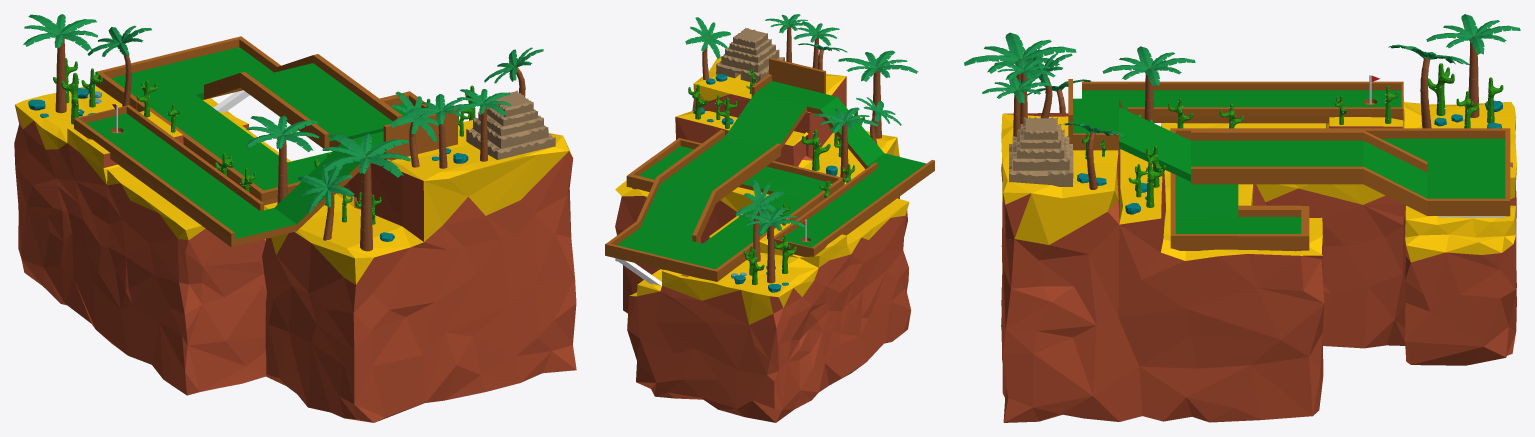
Rendered from IslandDesert_Mapa.glb.
3 renders of one model, left to right at view 1: azimuth 30°, elevation 25°; view 2: azimuth 150°, elevation 25°; view 3: azimuth 270°, elevation 25°, orthographic. The views are drawn at different scales.
Visible parts, largest first — view 1: Terreno_Isla, Circuito_Cesped, Circuito_Paredes, Palmera_Hojas_7, Palmera_Hojas_9, Palmera_Hojas_6, Palmera_Hojas_8, Piramide_1, Palmera_Tronco_7, Palmera_Hojas_1, Piramide_2, Palmera_Hojas_5 (+7 smaller); view 2: Terreno_Isla, Circuito_Cesped, Circuito_Paredes, Palmera_Hojas_7, Palmera_Hojas_5, Palmera_Hojas_4, Palmera_Hojas_9, Palmera_Hojas_6, Piramide_2, Piramide_1, Piramide_5, Palmera_Hojas_3 (+10 smaller); view 3: Terreno_Isla, Circuito_Cesped, Circuito_Paredes, Palmera_Hojas_7, Palmera_Hojas_9, Palmera_Hojas_6, Piramide_1, Piramide_2, Piramide_5, Palmera_Hojas_2, Piramide_3, Palmera_Tronco_9 (+5 smaller).
Boxes of the visible parts, x1,y1,x2,y2 form: Terreno_Isla: (14,84,576,422); Circuito_Cesped: (86,47,414,239); Circuito_Paredes: (74,36,457,247); Palmera_Hojas_7: (321,133,410,177); Palmera_Hojas_9: (23,14,97,51); Palmera_Hojas_6: (245,115,319,151); Palmera_Hojas_8: (298,165,354,212); Piramide_1: (466,128,555,159); Palmera_Tronco_7: (360,156,372,251); Palmera_Hojas_1: (389,91,438,141); Piramide_2: (473,118,548,148); Palmera_Hojas_5: (87,25,151,56); Terreno_Isla: (615,56,911,422); Circuito_Cesped: (617,81,926,269); Circuito_Paredes: (605,57,934,281); Palmera_Hojas_7: (838,50,918,81); Palmera_Hojas_5: (735,180,783,223); Palmera_Hojas_4: (685,17,730,58); Palmera_Hojas_9: (739,208,805,233); Palmera_Hojas_6: (812,107,878,133); Piramide_2: (721,49,779,72); Piramide_1: (716,57,784,83); Piramide_5: (733,28,767,48); Palmera_Hojas_3: (793,21,839,45); Terreno_Isla: (1001,97,1516,422); Circuito_Cesped: (1073,90,1505,233); Circuito_Paredes: (1068,79,1512,251); Palmera_Hojas_7: (964,32,1076,74); Palmera_Hojas_9: (1426,14,1520,54); Palmera_Hojas_6: (1102,46,1195,86); Piramide_1: (1009,144,1073,186); Piramide_2: (1012,136,1069,170); Piramide_5: (1023,117,1057,139); Palmera_Hojas_2: (982,76,1051,103); Piramide_3: (1017,129,1064,159); Palmera_Tronco_9: (1468,35,1479,117).
Bounding box in the file's own units: 94.59 × 82.59 × 135.
